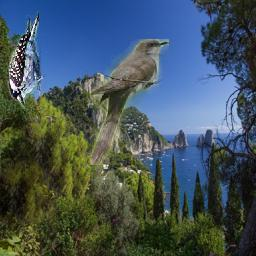Cuckoo: (91, 39, 170, 165)
Woodpecker: (4, 7, 51, 112)
